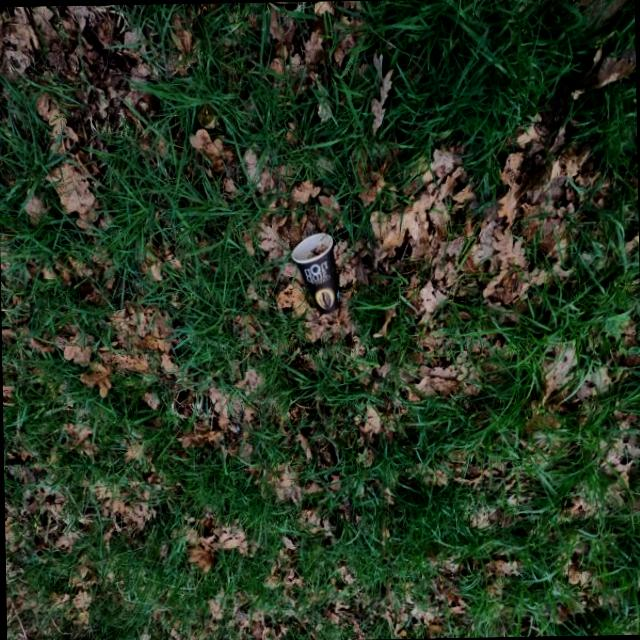Cup: (286, 228, 342, 316)
